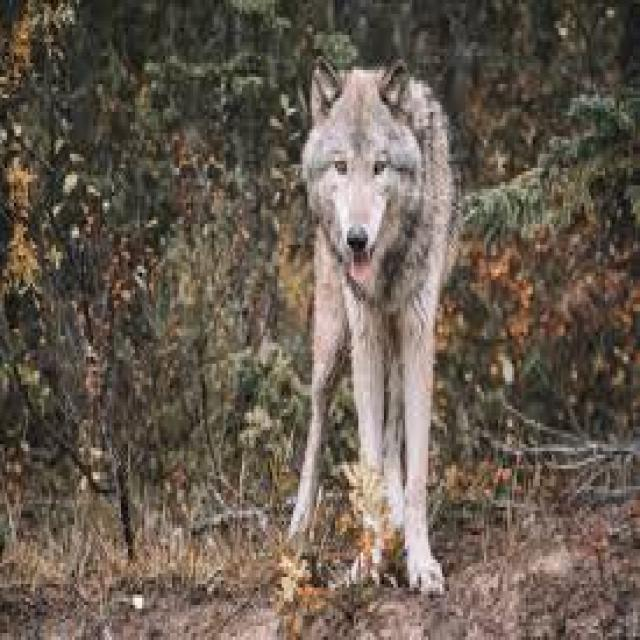Wolf: (284, 52, 461, 594)
